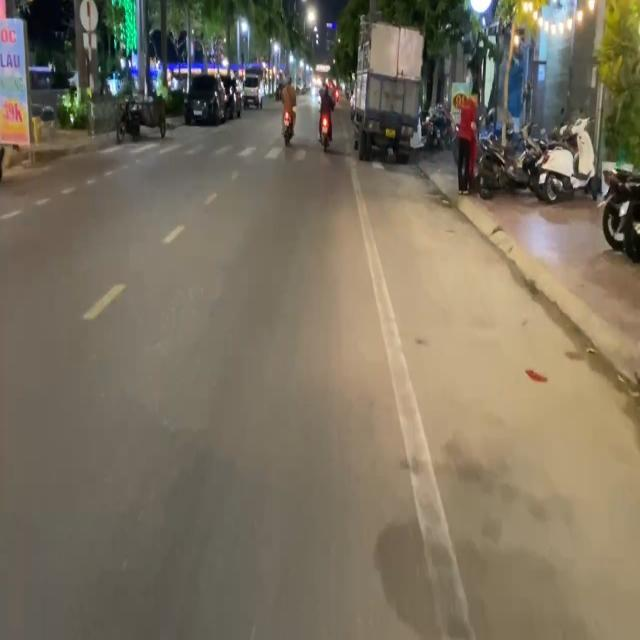walk-crossing: (100, 136, 407, 174)
